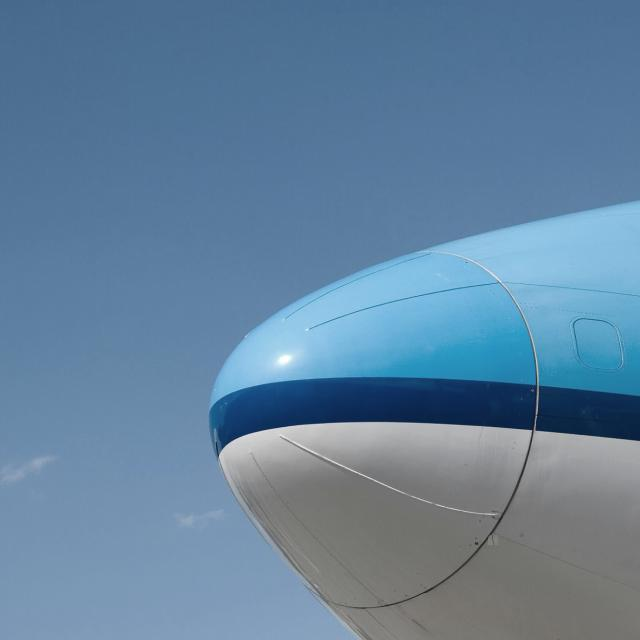crack: (490, 537, 500, 547)
